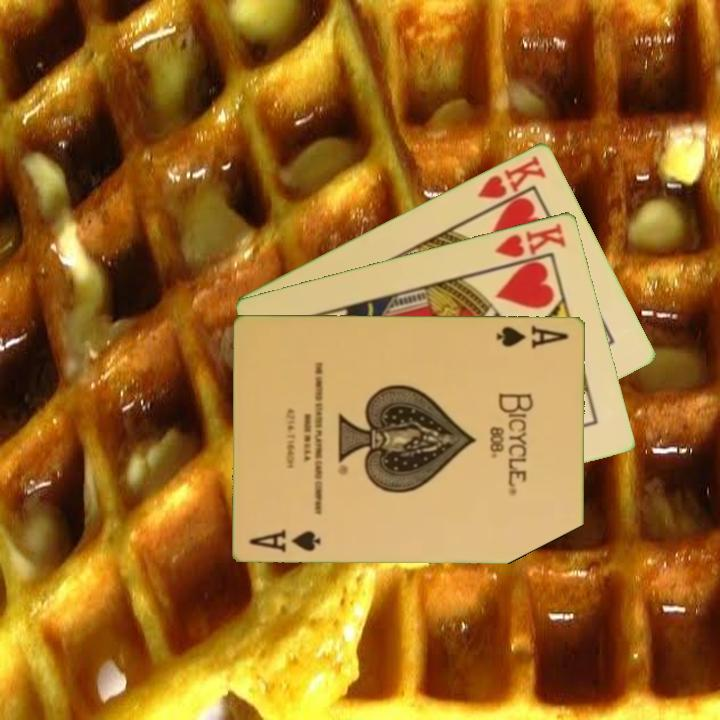As: (494, 321, 572, 351), (246, 525, 324, 554)
Kh: (473, 151, 549, 214), (491, 219, 569, 270)
